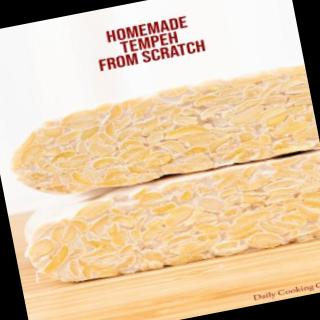Tempe: (1, 60, 320, 210), (16, 148, 320, 297)
